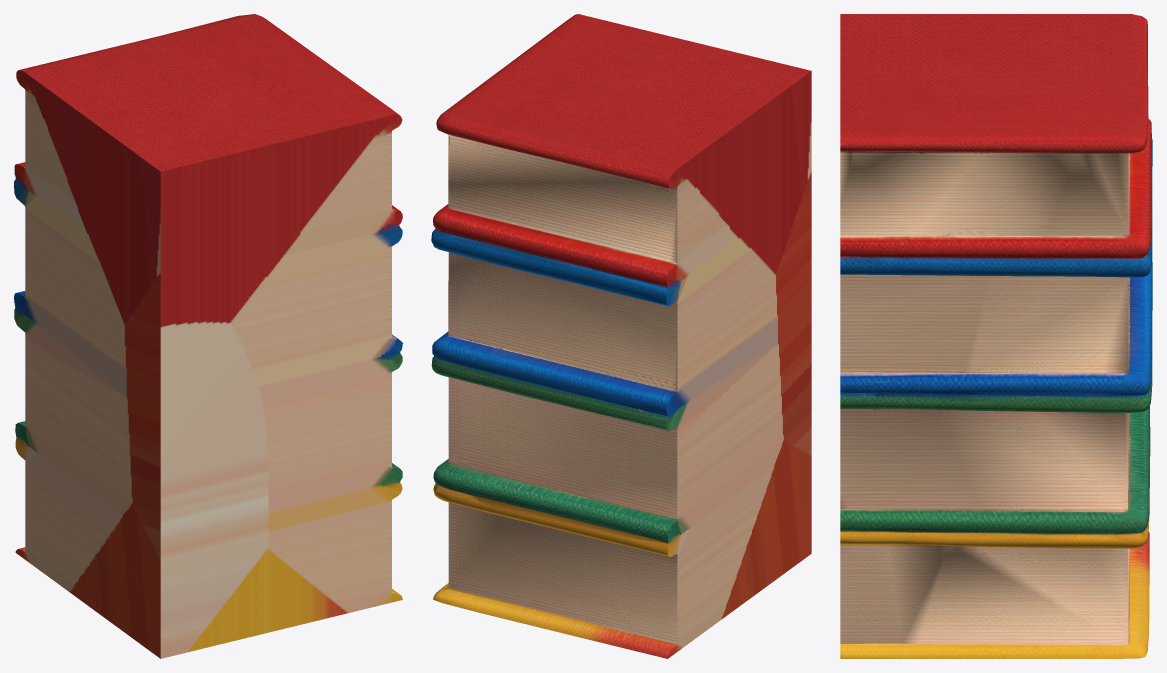
Rendered from 16-topper-back-right.fbx.
3 views of the same model, side by side, from view 1: azimuth 30°, elevation 25°; view 2: azimuth 150°, elevation 25°; view 3: azimuth 270°, elevation 25° (orthographic). The views are drawn at different scales.
Parts seen in each view (by area): view 1: topper-back-right; view 2: topper-back-right; view 3: topper-back-right.
Boxes of the visible parts, x1,y1,x2,y2 form: topper-back-right: [14, 14, 402, 658]; topper-back-right: [431, 14, 811, 658]; topper-back-right: [840, 14, 1152, 658].
Bounding box in the file's own units: 6033 × 11560 × 6309.
Materials: 1 (1 with a texture image).
